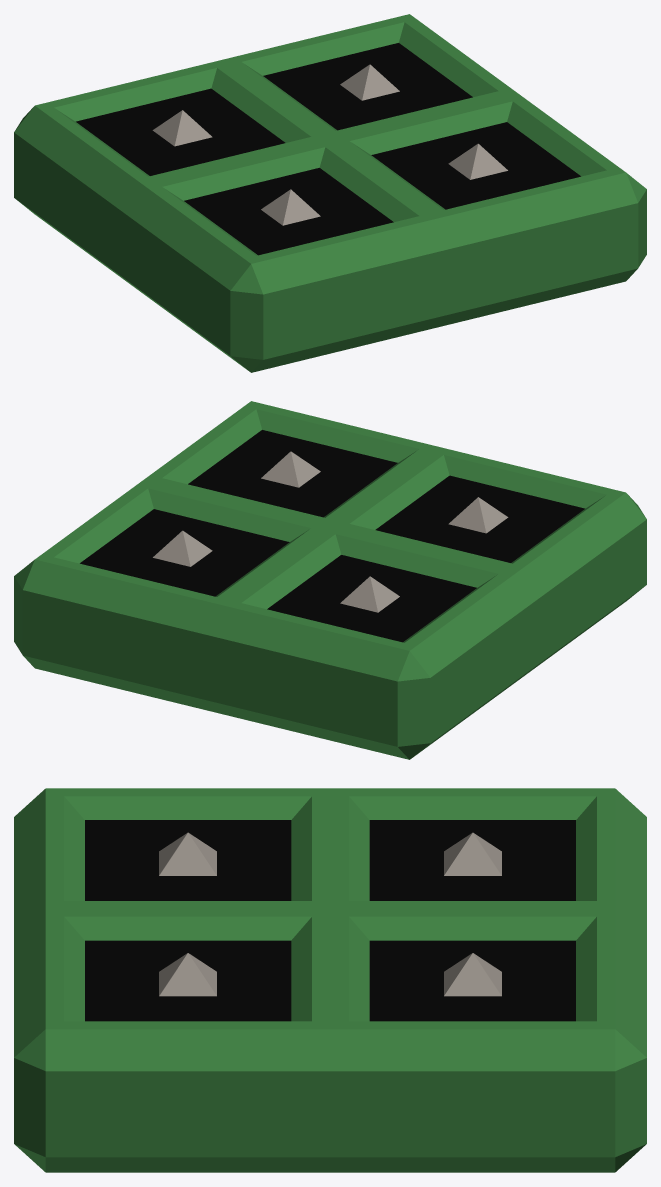
File: m_dec_dung_trapSpikes_disabled.fbx
3 renders of one model, top to bottom at view 1: azimuth 30°, elevation 25°; view 2: azimuth 150°, elevation 25°; view 3: azimuth 270°, elevation 25°, orthographic. The views are drawn at different scales.
Parts seen in each view (by area): view 1: m_dec_dung_trapSpikes_disabled; view 2: m_dec_dung_trapSpikes_disabled; view 3: m_dec_dung_trapSpikes_disabled.
Boxes of the visible parts, bbox=[...] form: m_dec_dung_trapSpikes_disabled: bbox=[14, 14, 646, 372]; m_dec_dung_trapSpikes_disabled: bbox=[14, 401, 646, 759]; m_dec_dung_trapSpikes_disabled: bbox=[14, 788, 646, 1172].
Size of the model in its own units: 2 by 0.5565 by 2.
